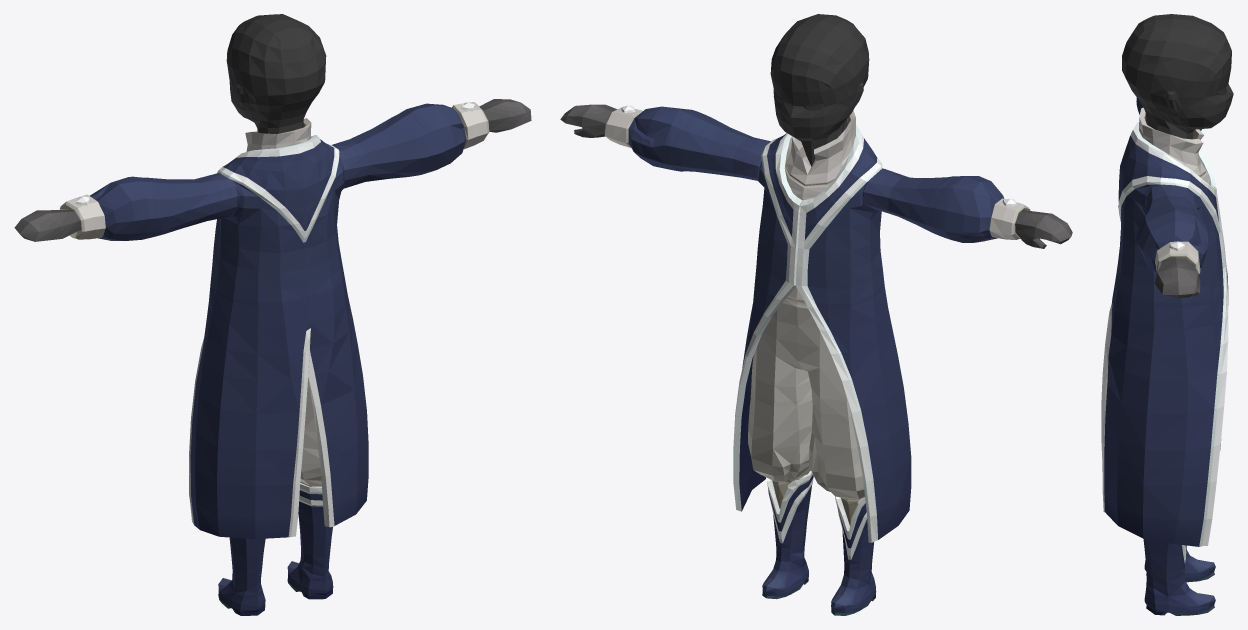
The model's file is CharSkyKid_Body_AP26Royal.glb.
The picture shows the model from 3 angles, left to right: view 1: azimuth 30°, elevation 25°; view 2: azimuth 150°, elevation 25°; view 3: azimuth 270°, elevation 25°; orthographic projection.
Parts seen in each view (by area): view 1: CharSkyKid_Body_AP26Royal; view 2: CharSkyKid_Body_AP26Royal; view 3: CharSkyKid_Body_AP26Royal.
Boxes of the visible parts, <box> form: CharSkyKid_Body_AP26Royal: <box>14,14,531,615</box>; CharSkyKid_Body_AP26Royal: <box>560,14,1072,615</box>; CharSkyKid_Body_AP26Royal: <box>1101,14,1233,615</box>.
Size of the model in its own units: 13.83 by 14.94 by 3.13.
1 material, 1 textured.
